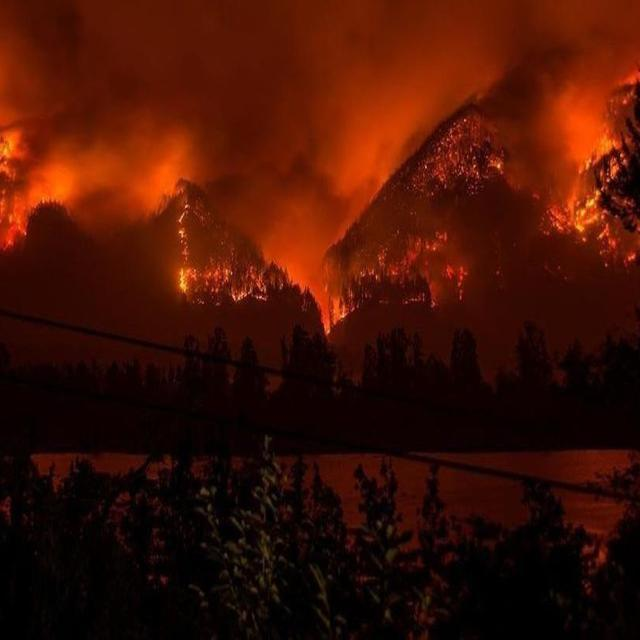Fire: (567, 120, 632, 254), (437, 94, 503, 182), (0, 121, 37, 260), (315, 290, 346, 346), (172, 257, 206, 295)
Smoke: (0, 10, 640, 259)
